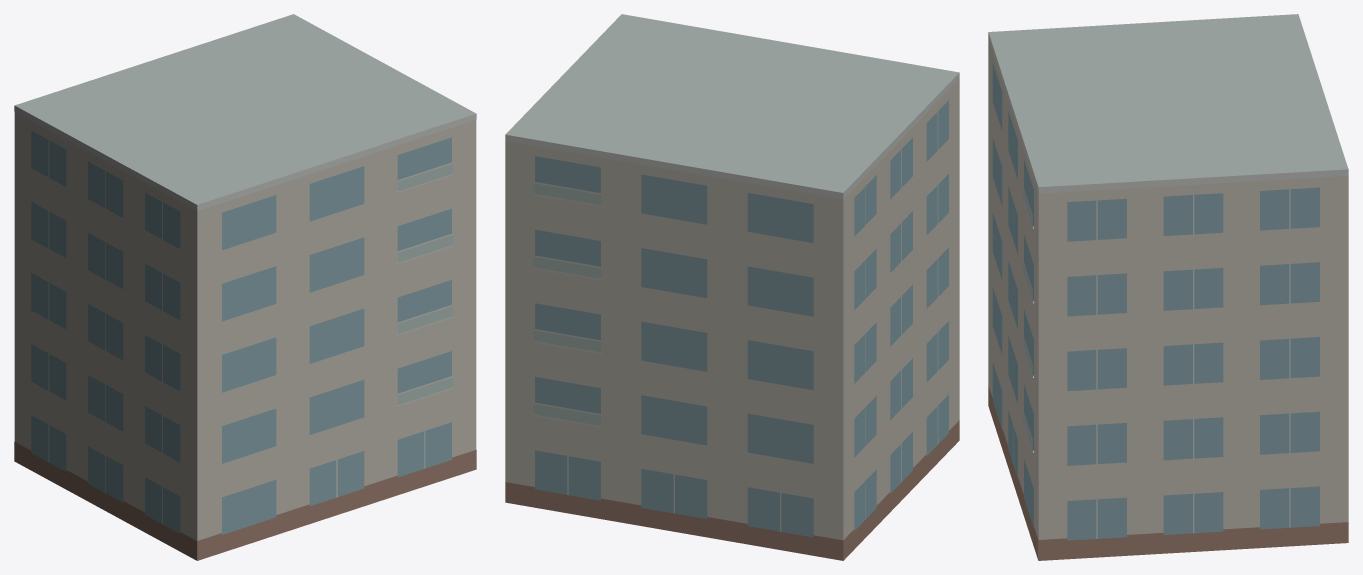
The model's file is survey-upis-32532709.glb.
3 renders of one model, left to right at view 1: azimuth 30°, elevation 25°; view 2: azimuth 150°, elevation 25°; view 3: azimuth 270°, elevation 25°, orthographic. The views are drawn at different scales.
Parts seen in each view (by area): view 1: survey-upis-32532709.tmp; view 2: survey-upis-32532709.tmp; view 3: survey-upis-32532709.tmp.
Part boxes in pixels (box(x1,y1,x2,y2)): survey-upis-32532709.tmp: box(14, 14, 476, 560); survey-upis-32532709.tmp: box(505, 14, 959, 560); survey-upis-32532709.tmp: box(988, 14, 1348, 560).
Size of the model in its own units: 13.83 by 13.9 by 12.15.
